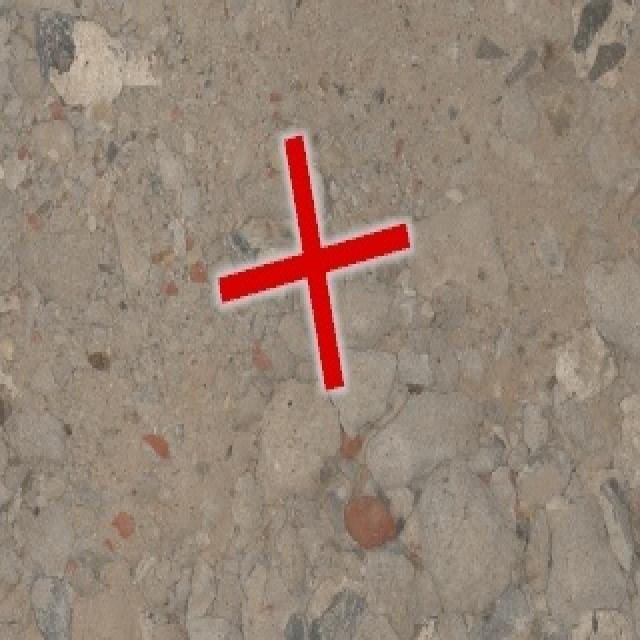x_marker: (217, 135, 409, 388)
